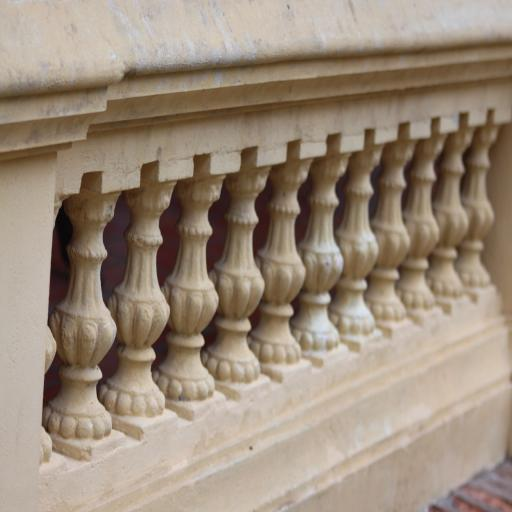la: (57, 304, 110, 368), (112, 288, 161, 346), (172, 280, 216, 333), (262, 251, 302, 307), (302, 245, 348, 293), (220, 266, 262, 318), (345, 230, 379, 276), (465, 200, 500, 240), (440, 209, 469, 252), (380, 225, 411, 261), (414, 218, 438, 260)
